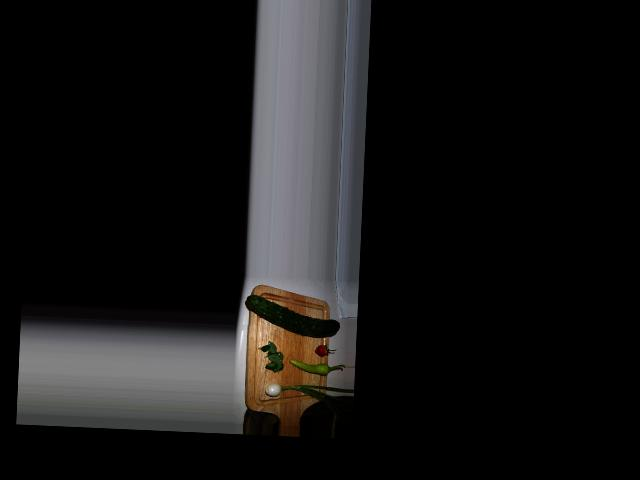cucumber: (244, 294, 340, 337)
